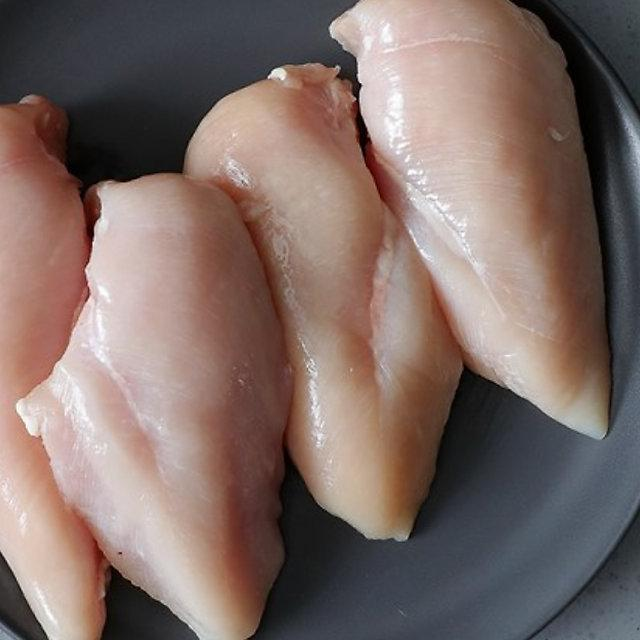chicken: (180, 62, 467, 542), (16, 173, 296, 640), (330, 0, 612, 440), (0, 91, 115, 640)
